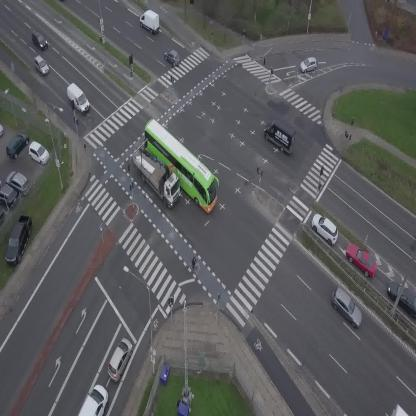bicycle: (187, 256, 203, 276)
bus: (130, 116, 230, 215)
car: (325, 286, 369, 330), (341, 238, 383, 282), (103, 336, 137, 384), (306, 209, 344, 247), (78, 381, 114, 416), (161, 46, 184, 69), (29, 54, 51, 78), (28, 29, 50, 52), (298, 56, 318, 74)
lorry: (125, 143, 190, 209), (258, 114, 303, 156), (63, 81, 93, 114), (135, 7, 166, 36)
